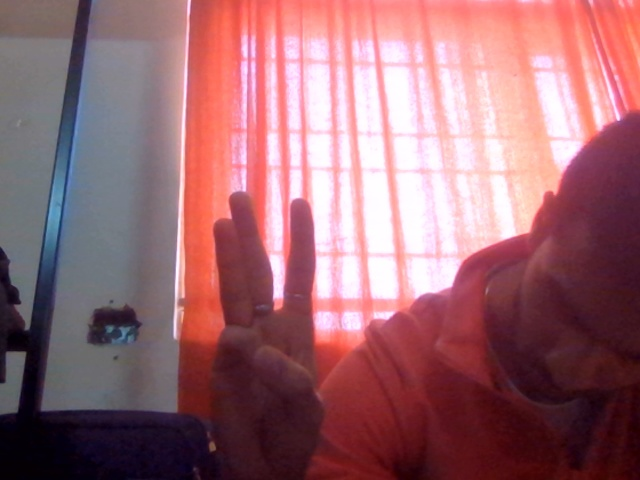W: (146, 178, 393, 480)
